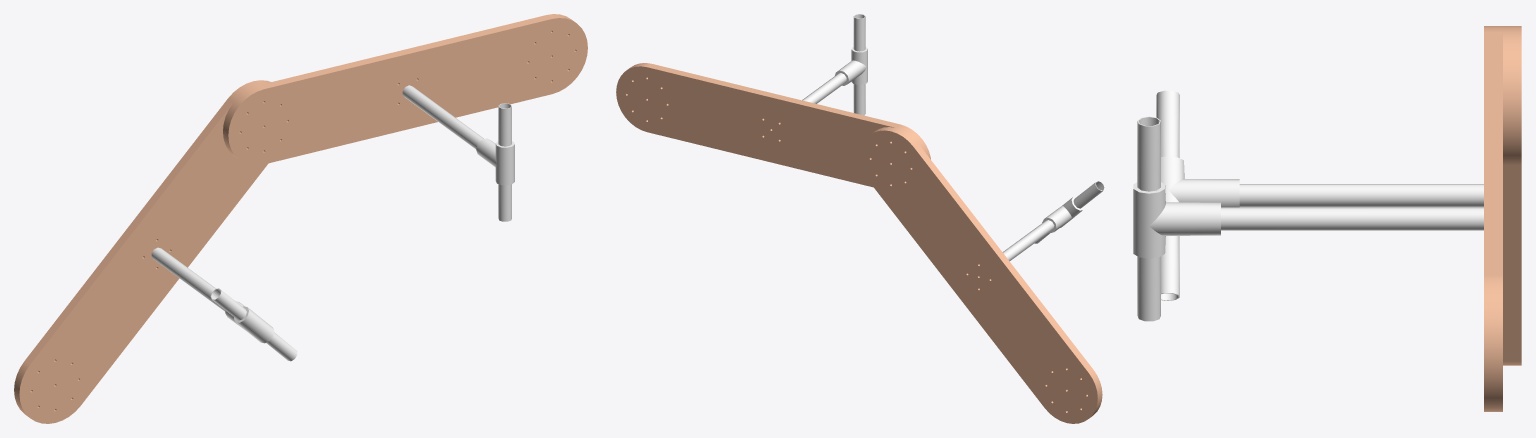
The model's file is pathmarker.dae.
The picture shows the model from 3 angles, left to right: view 1: azimuth 30°, elevation 25°; view 2: azimuth 150°, elevation 25°; view 3: azimuth 270°, elevation 25°; orthographic projection. The views are drawn at different scales.
Visible parts, largest first — view 1: path_marker.001; view 2: path_marker.001; view 3: path_marker.001.
Boxes of the visible parts, x1,y1,x2,y2 form: path_marker.001: [14, 14, 587, 423]; path_marker.001: [616, 14, 1104, 423]; path_marker.001: [1133, 26, 1521, 411].
Size of the model in its own units: 1.19 by 0.4125 by 0.6216.
